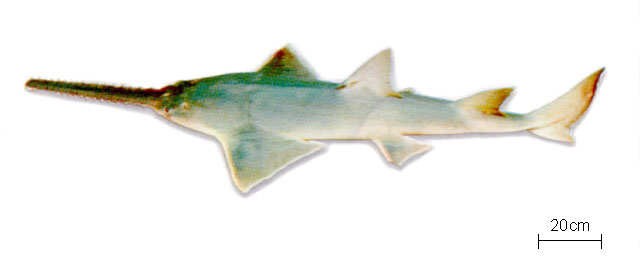shark: (9, 25, 614, 203)
